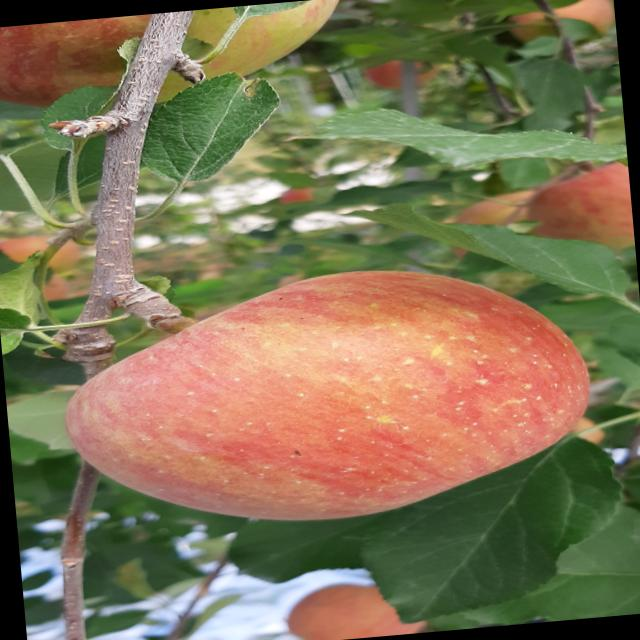fresh: (47, 244, 618, 550)
